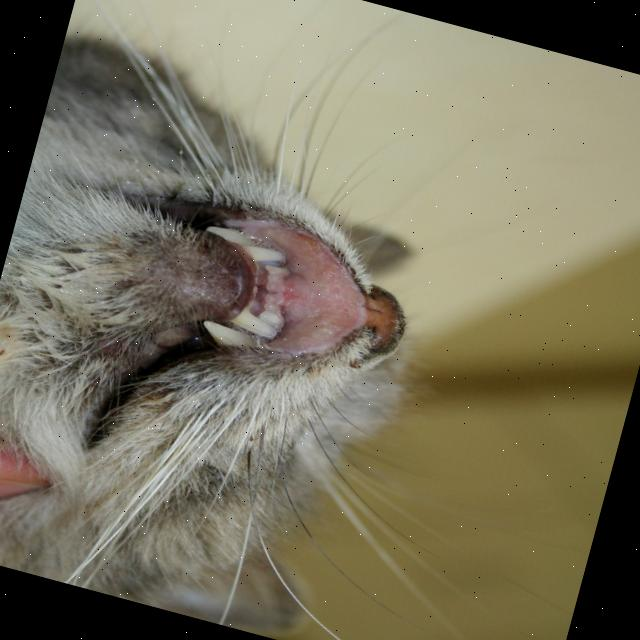cat-lump-and-bump: (266, 244, 362, 356)
